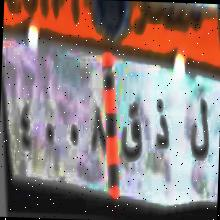0: (66, 115, 82, 164), (42, 118, 58, 160)
4: (16, 102, 36, 164)
8: (88, 102, 108, 170)
laam: (188, 94, 211, 174)
qaaf: (116, 92, 144, 174)
zaal: (152, 96, 170, 162)
